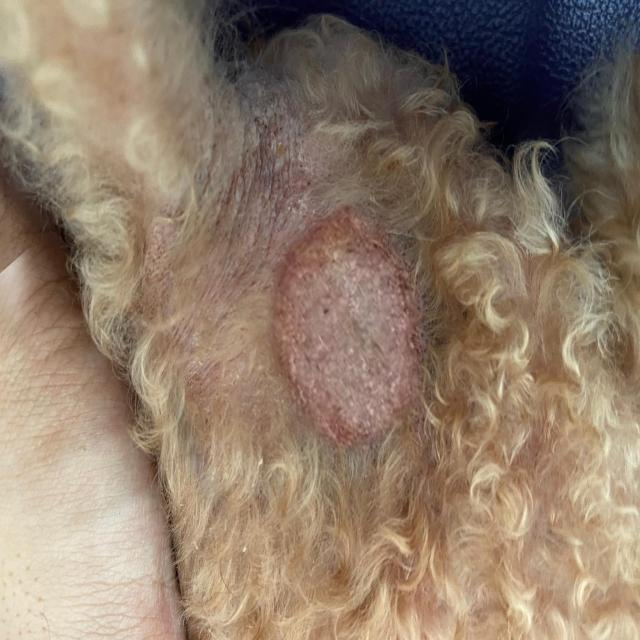ringworm: (275, 198, 433, 531)
